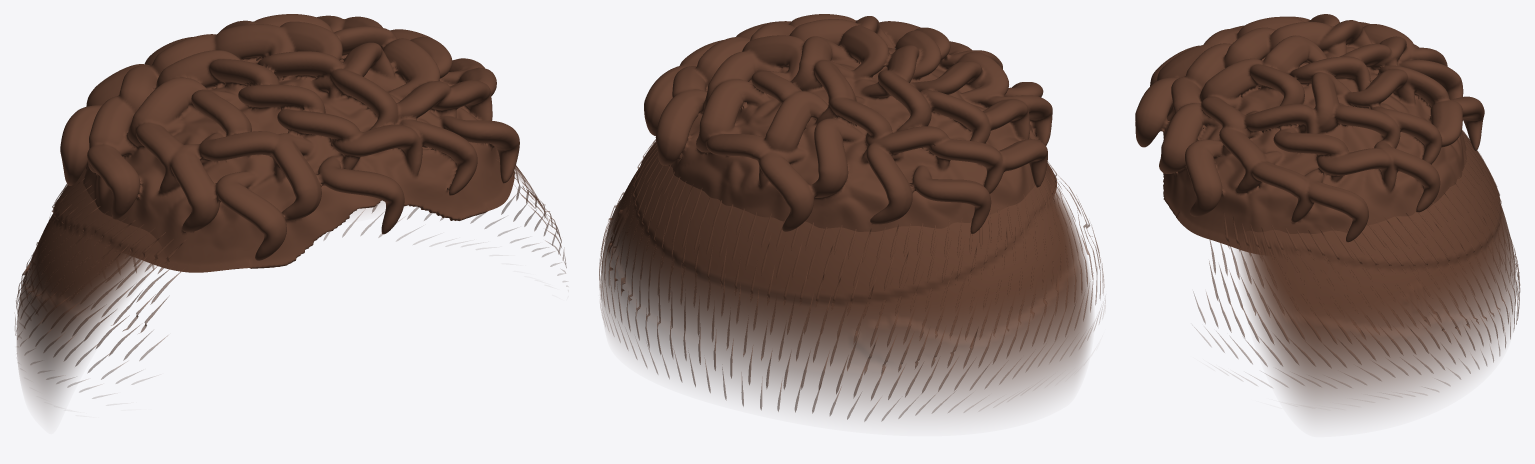
The model's file is Masculine-curly-top-headband259-hair.glb.
The picture shows the model from 3 angles, left to right: view 1: azimuth 30°, elevation 25°; view 2: azimuth 150°, elevation 25°; view 3: azimuth 270°, elevation 25°; orthographic projection. The views are drawn at different scales.
Parts seen in each view (by area): view 1: 226 hair / Hair252 / sculpted curl groups, 226 hair / Hair258 / smooth side fade, 226 hair / Hair259 / directional fade marks214; view 2: 226 hair / Hair258 / smooth side fade, 226 hair / Hair252 / sculpted curl groups, 226 hair / Hair259 / directional fade marks214; view 3: 226 hair / Hair252 / sculpted curl groups, 226 hair / Hair258 / smooth side fade, 226 hair / Hair259 / directional fade marks214.
Part boxes in pixels (box(x1,y1,x2,y2)): 226 hair / Hair252 / sculpted curl groups: box(60, 14, 519, 272); 226 hair / Hair258 / smooth side fade: box(16, 164, 546, 411); 226 hair / Hair259 / directional fade marks214: box(15, 154, 567, 398); 226 hair / Hair258 / smooth side fade: box(601, 141, 1092, 415); 226 hair / Hair252 / sculpted curl groups: box(644, 14, 1056, 233); 226 hair / Hair259 / directional fade marks214: box(599, 139, 1105, 421); 226 hair / Hair252 / sculpted curl groups: box(1135, 14, 1484, 253); 226 hair / Hair258 / smooth side fade: box(1235, 131, 1516, 418); 226 hair / Hair259 / directional fade marks214: box(1194, 129, 1520, 394).
Size of the model in its own units: 0.9743 by 0.665 by 0.7572.
